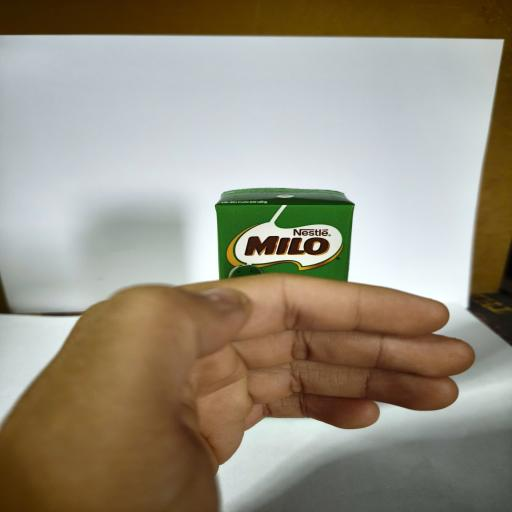milo: (215, 188, 355, 282)
